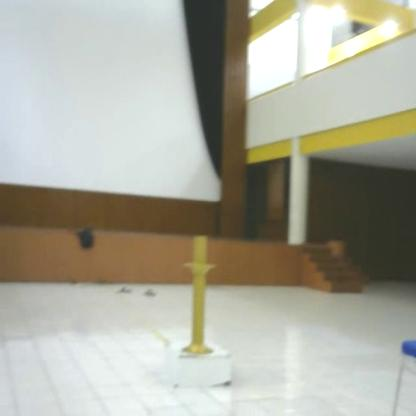pole: (177, 236, 225, 359)
